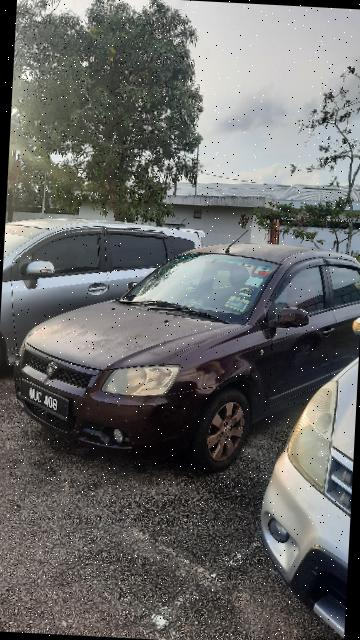License_Plate: (15, 373, 74, 425)
car: (3, 229, 360, 485), (1, 214, 214, 383), (265, 308, 360, 632)
